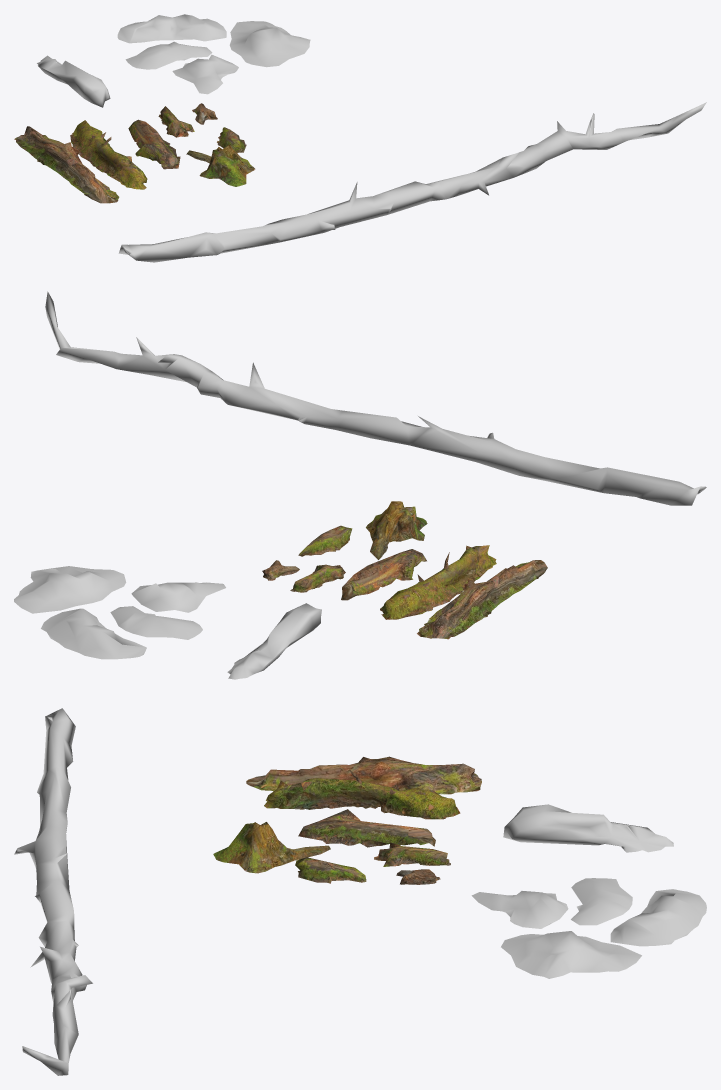
Rendered from forest_data.fbx.
3 renders of one model, top to bottom at view 1: azimuth 30°, elevation 25°; view 2: azimuth 150°, elevation 25°; view 3: azimuth 270°, elevation 25°, orthographic. The views are drawn at different scales.
Visible parts, largest first — view 1: 9-_, 2-_, 7-_defaultMat, 14-_, 3-_, 11-_branches_blank, 21-_, 15-_, 1-_defaultMat.001, 13-_, 6-_, 5-_; view 2: 9-_, 2-_, 7-_defaultMat, 3-_, 14-_, 11-_branches_blank, 1-_defaultMat.001, 15-_, 21-_, 13-_, 5-_, 6-_; view 3: 9-_, 3-_, 2-_, 11-_branches_blank, 7-_defaultMat, 14-_, 1-_defaultMat.001, 21-_, 15-_, 13-_, 5-_, 6-_.
Boxes of the visible parts, left/top/right/bottom form: 9-_: left=118, top=102, right=706, bottom=262; 2-_: left=14, top=126, right=119, bottom=203; 7-_defaultMat: left=229, top=21, right=310, bottom=67; 14-_: left=117, top=14, right=226, bottom=43; 3-_: left=70, top=120, right=147, bottom=189; 11-_branches_blank: left=37, top=55, right=110, bottom=107; 21-_: left=186, top=145, right=255, bottom=186; 15-_: left=172, top=54, right=238, bottom=94; 1-_defaultMat.001: left=128, top=119, right=180, bottom=169; 13-_: left=125, top=41, right=212, bottom=69; 6-_: left=158, top=106, right=194, bottom=137; 5-_: left=217, top=127, right=246, bottom=153; 9-_: left=45, top=291, right=706, bottom=505; 2-_: left=417, top=560, right=547, bottom=639; 7-_defaultMat: left=14, top=566, right=126, bottom=613; 3-_: left=380, top=545, right=496, bottom=619; 14-_: left=41, top=608, right=146, bottom=659; 11-_branches_blank: left=227, top=603, right=321, bottom=679; 1-_defaultMat.001: left=341, top=549, right=426, bottom=600; 15-_: left=131, top=582, right=225, bottom=612; 21-_: left=366, top=501, right=427, bottom=559; 13-_: left=110, top=606, right=202, bottom=639; 5-_: left=298, top=525, right=352, bottom=556; 6-_: left=290, top=564, right=345, bottom=592; 9-_: left=14, top=708, right=92, bottom=1075; 3-_: left=264, top=769, right=460, bottom=819; 2-_: left=246, top=756, right=481, bottom=794; 11-_branches_blank: left=503, top=804, right=673, bottom=852; 7-_defaultMat: left=501, top=931, right=641, bottom=978; 14-_: left=610, top=889, right=706, bottom=946; 1-_defaultMat.001: left=298, top=809, right=435, bottom=847; 21-_: left=213, top=822, right=330, bottom=873; 15-_: left=471, top=891, right=568, bottom=928; 13-_: left=571, top=878, right=632, bottom=925; 5-_: left=295, top=857, right=366, bottom=883; 6-_: left=374, top=842, right=450, bottom=866.
Bounding box in the file's own units: 827 × 62.7 × 678.
